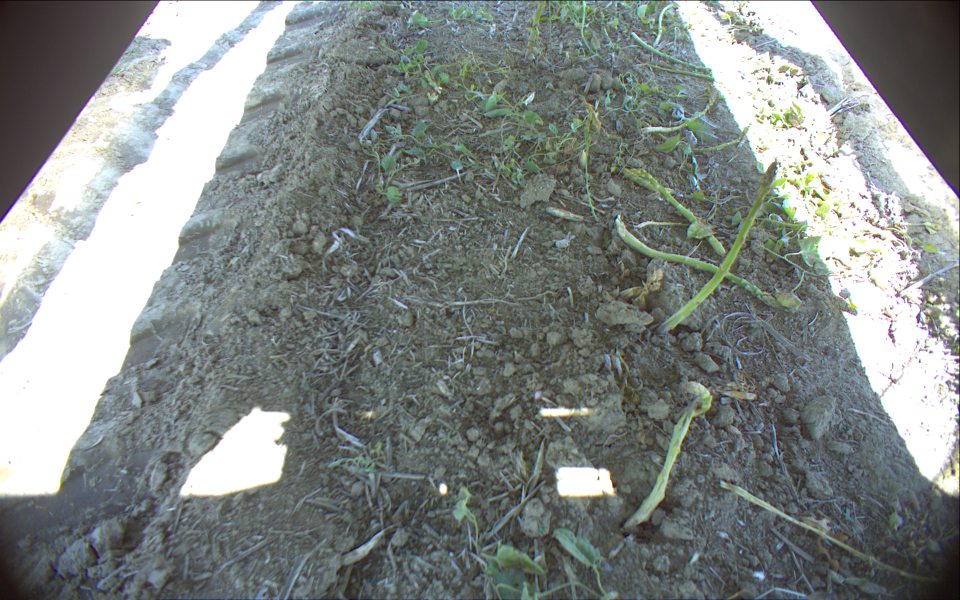aspa: (652, 158, 779, 338)
